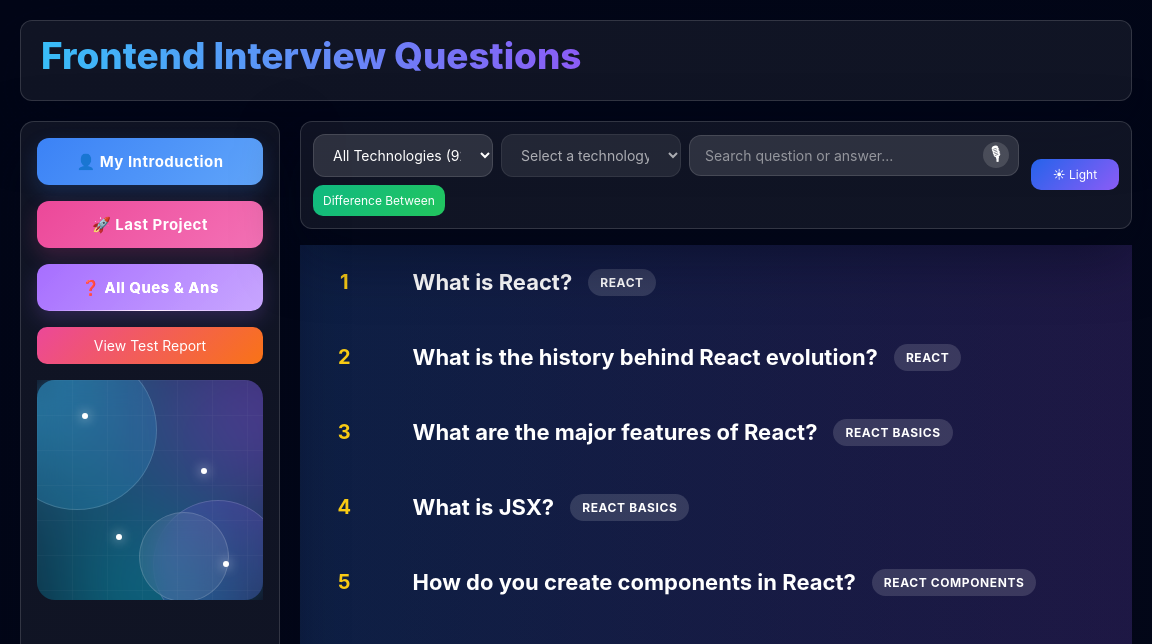
Test: App › shows categories for the selected technology
Select "JavaScript (251)" in the dropdown named "technology": (403, 155) [313, 134, 493, 177]
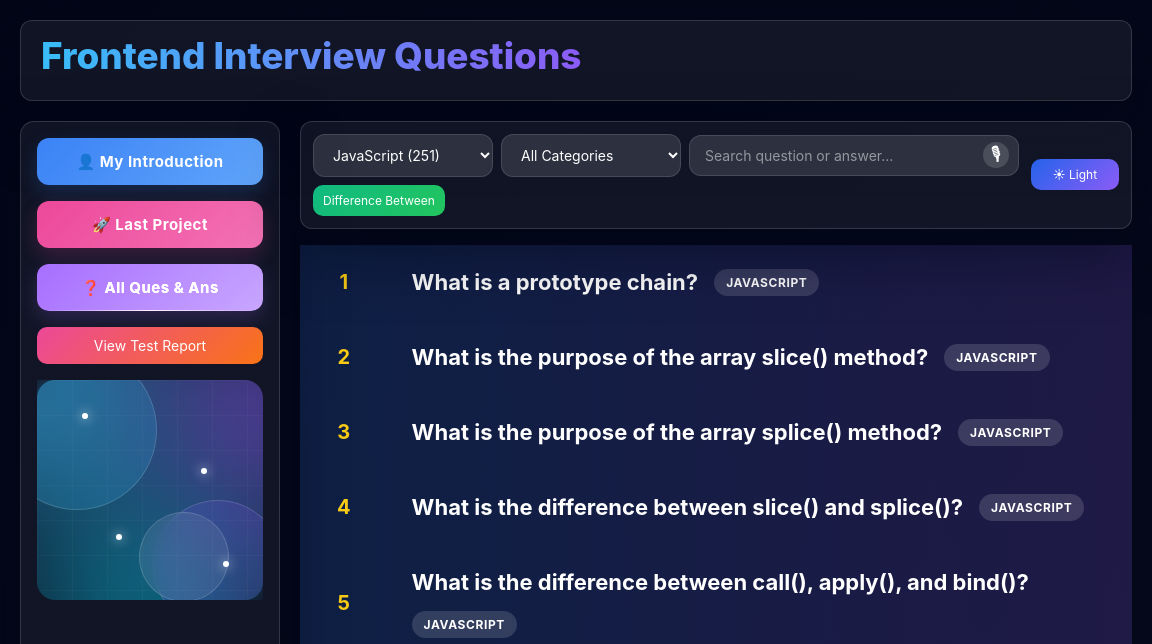
Check: the dropdown named "question category" is enabled, box [501, 134, 681, 177]
Check: the dropdown named "question category" shows "All Categories", box [501, 134, 681, 177]
